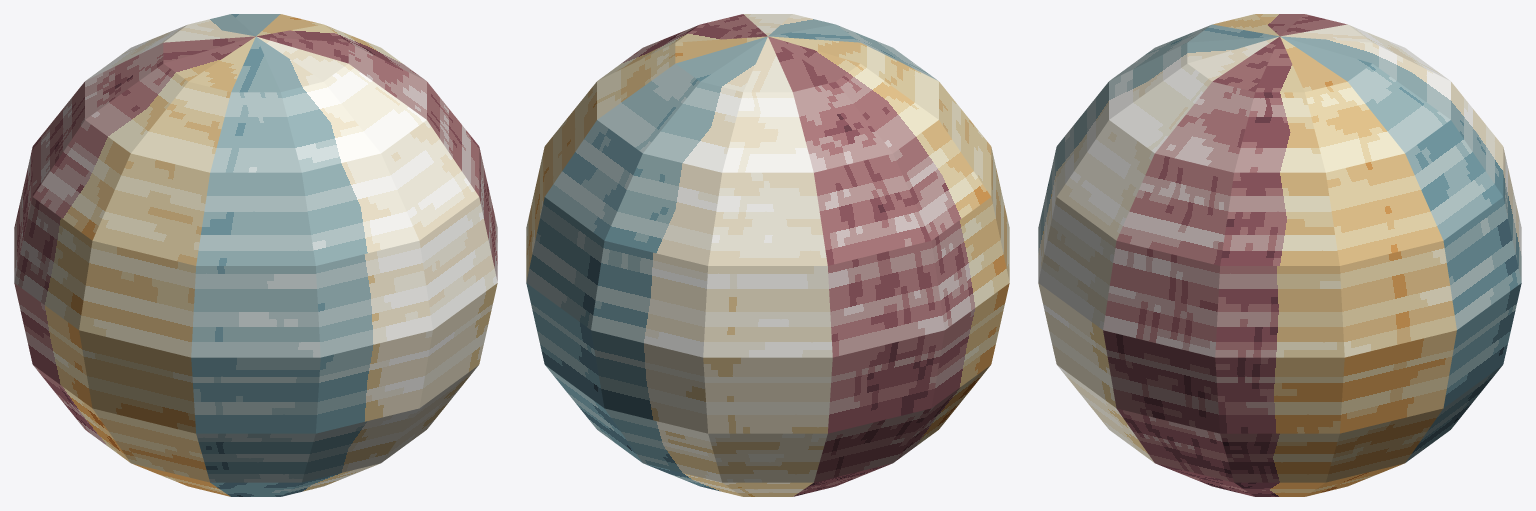
Rendered from ball.glb.
3 renders of one model, left to right at view 1: azimuth 30°, elevation 25°; view 2: azimuth 150°, elevation 25°; view 3: azimuth 270°, elevation 25°, orthographic.
Visible parts, largest first — view 1: ball; view 2: ball; view 3: ball.
Boxes of the visible parts, <box> form: ball: <box>14,14,497,496</box>; ball: <box>526,14,1009,496</box>; ball: <box>1038,14,1521,496</box>.
Bounding box in the file's own units: 0.4375 × 0.4375 × 0.4375.
1 material, 1 textured.
